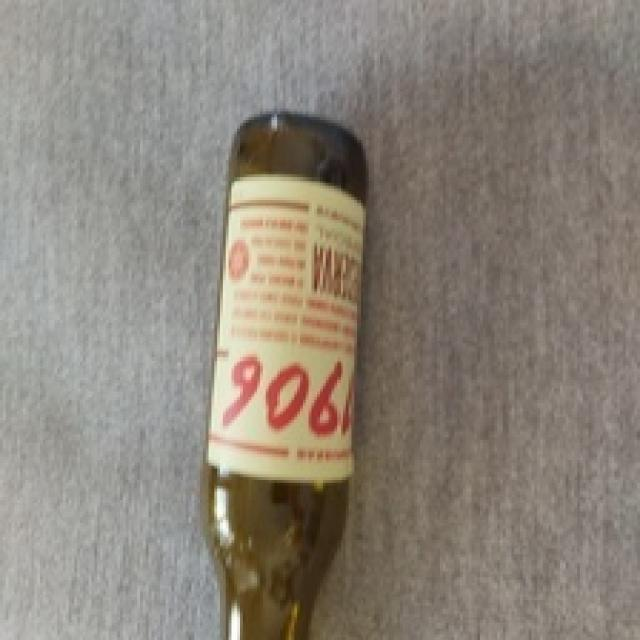Glass: (205, 109, 368, 640)
